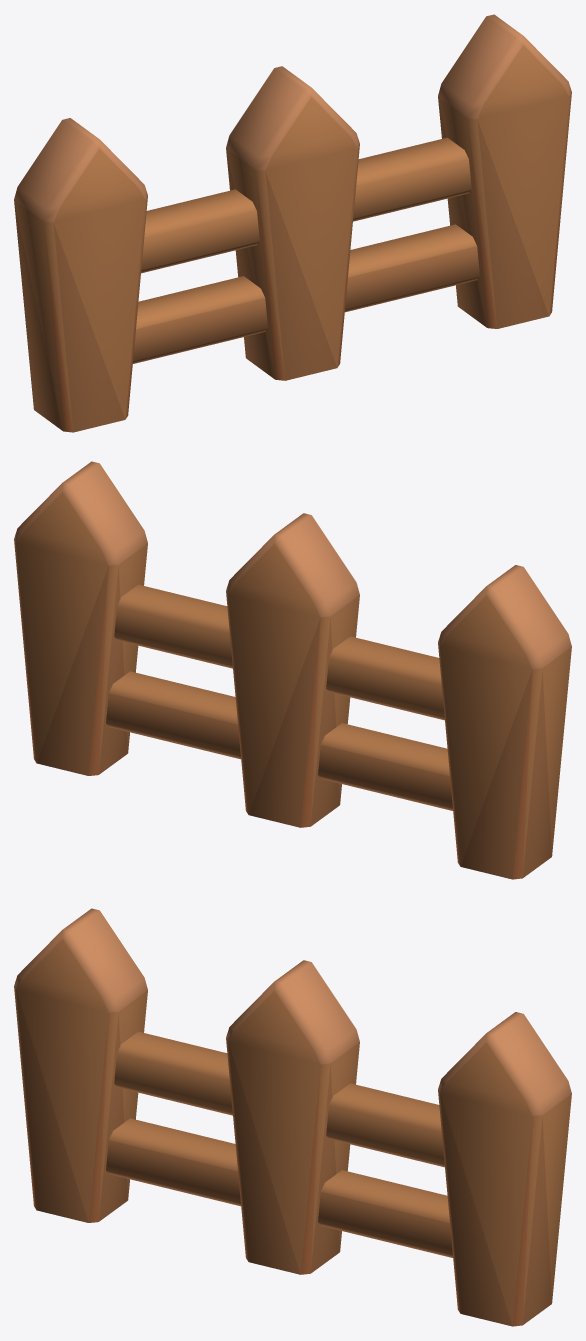
Rendered from itch_tiny_homely_house_fence_straight_long.glb.
3 renders of one model, top to bottom at view 1: azimuth 30°, elevation 25°; view 2: azimuth 150°, elevation 25°; view 3: azimuth 330°, elevation 25°, orthographic.
Visible parts, largest first — view 1: fence_straight_long; view 2: fence_straight_long; view 3: fence_straight_long.
Boxes of the visible parts, x1,y1,x2,y2 form: fence_straight_long: [14, 14, 571, 432]; fence_straight_long: [14, 461, 571, 879]; fence_straight_long: [14, 908, 571, 1326].
Size of the model in its own units: 1.18 by 0.6042 by 0.1419.
